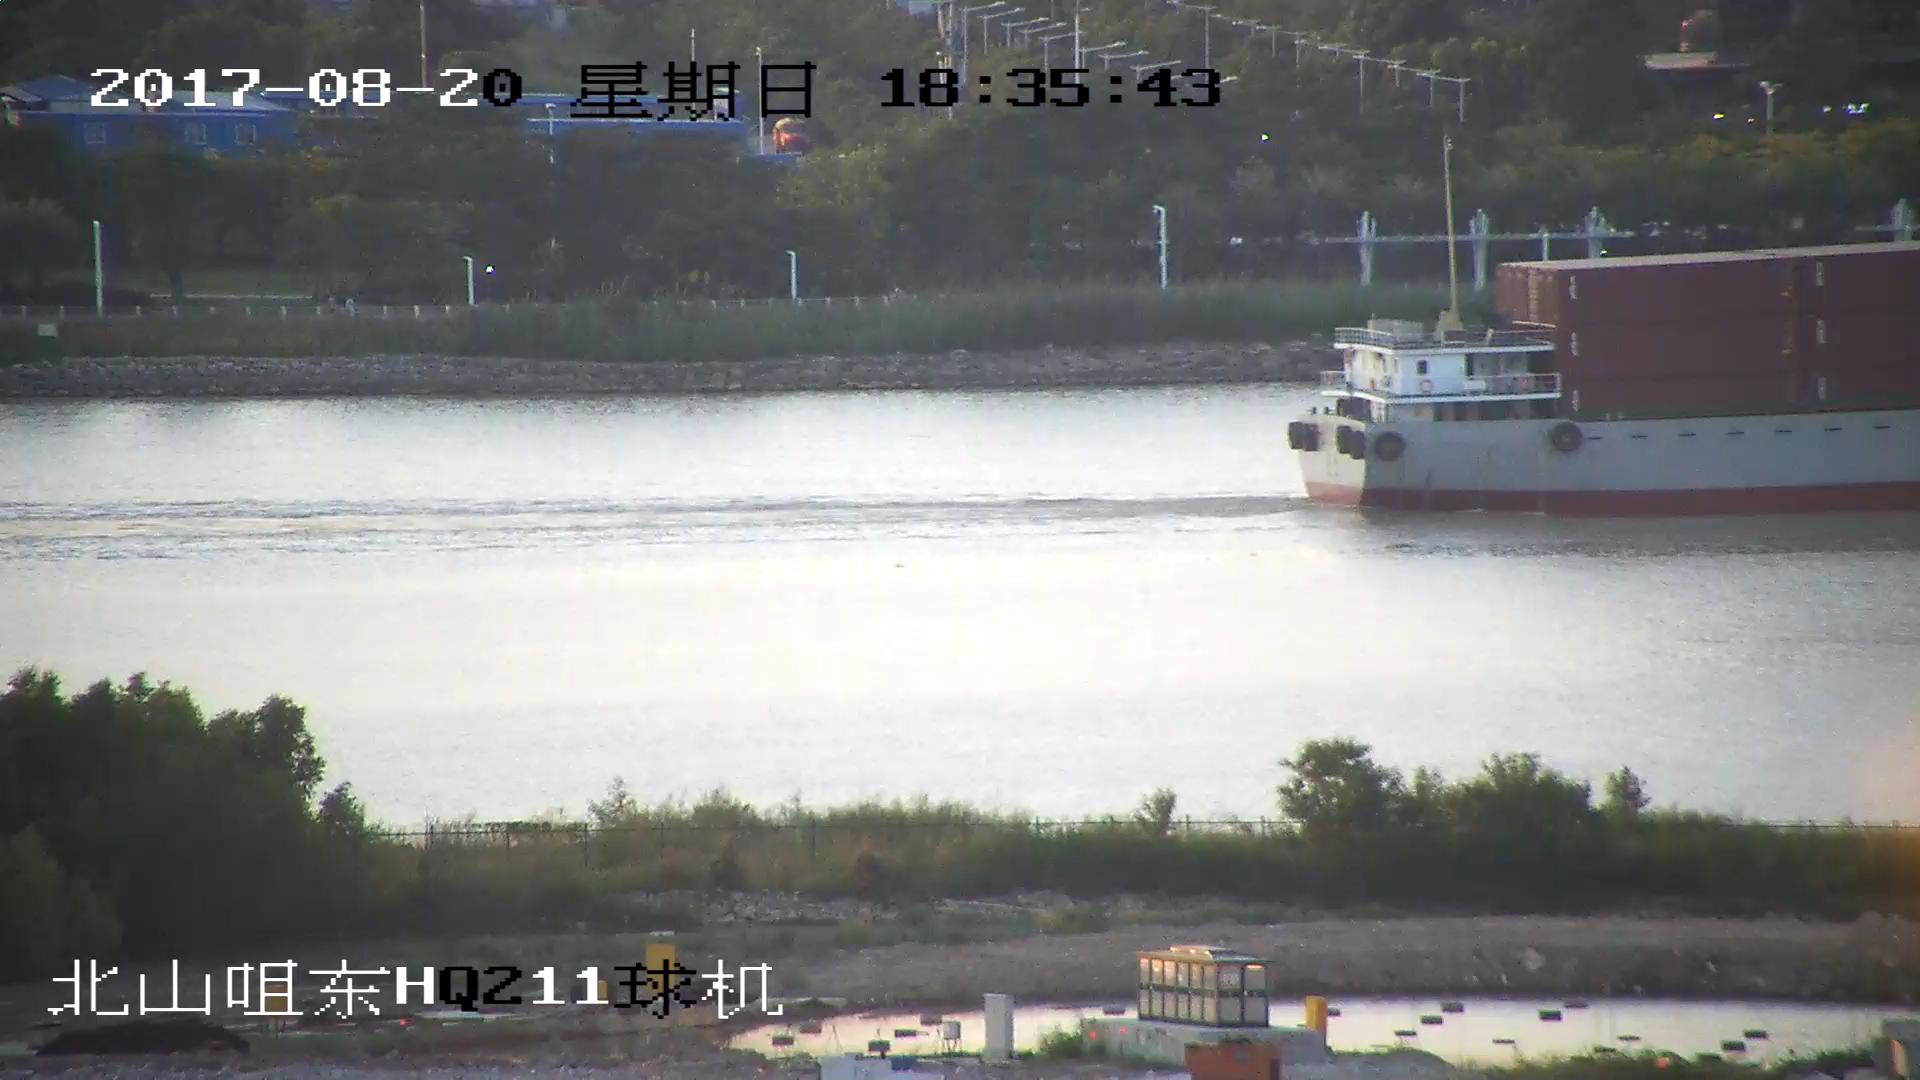container ship: (1282, 243, 1920, 515)
